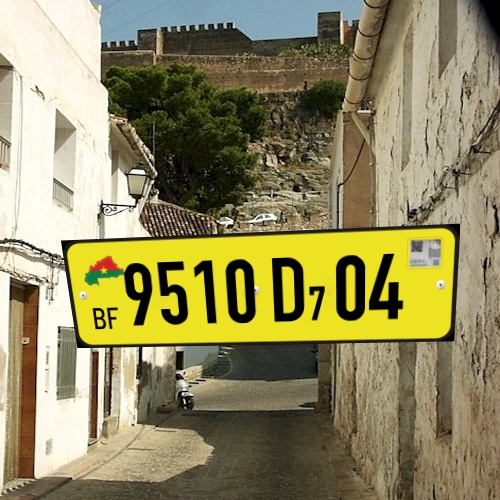plate: (49, 211, 473, 367)
